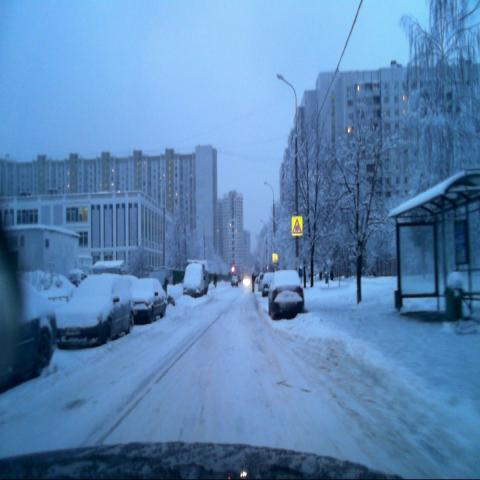1_23: (290, 214, 303, 236)
